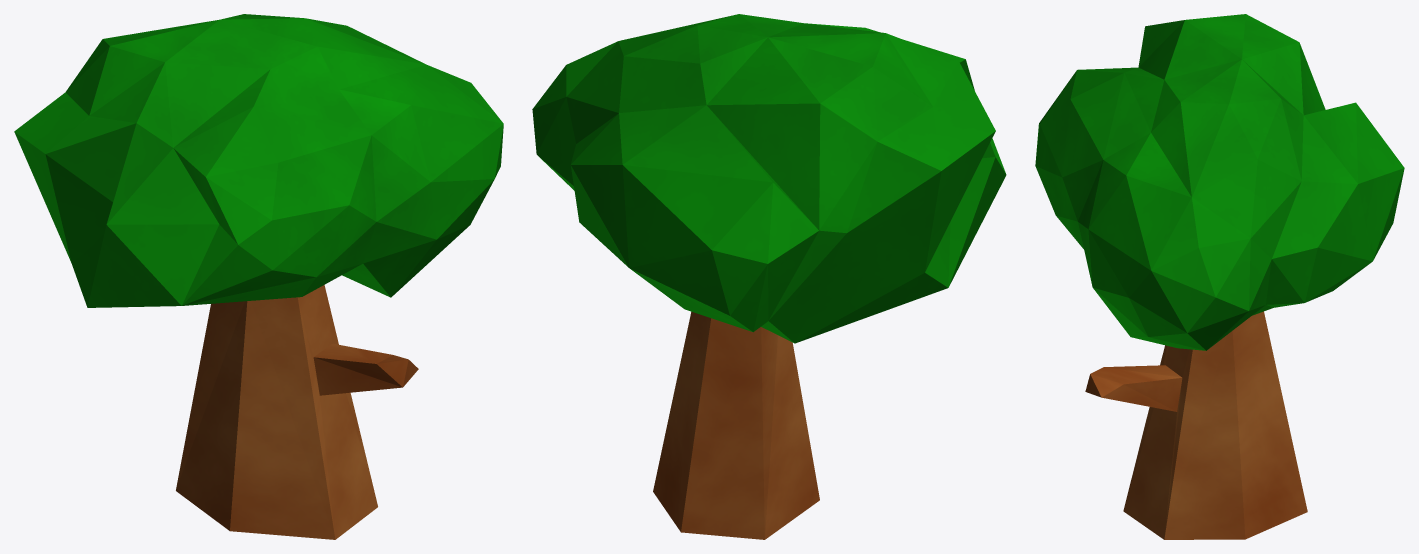
Rendered from tree2.fbx.
3 renders of one model, left to right at view 1: azimuth 30°, elevation 25°; view 2: azimuth 150°, elevation 25°; view 3: azimuth 270°, elevation 25°, orthographic. The views are drawn at different scales.
Parts seen in each view (by area): view 1: Group47649; view 2: Group47649; view 3: Group47649.
Boxes of the visible parts, x1,y1,x2,y2 form: Group47649: (14,14,503,539); Group47649: (532,14,1006,539); Group47649: (1035,14,1404,539).
Bounding box in the file's own units: 480 × 491 × 380.
